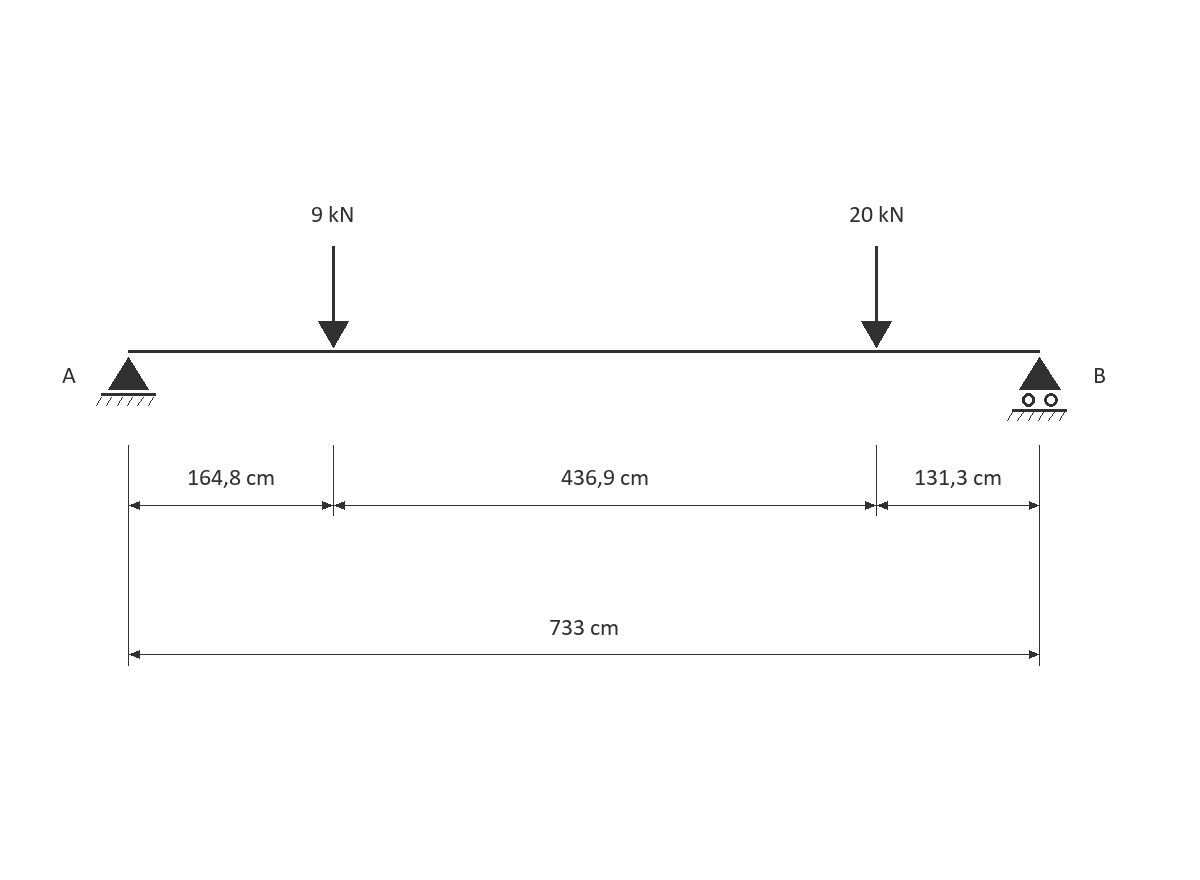pin_support: (96, 357, 156, 406)
point_load: (318, 246, 349, 348), (861, 246, 892, 348)
roller_support: (1007, 357, 1067, 421)
